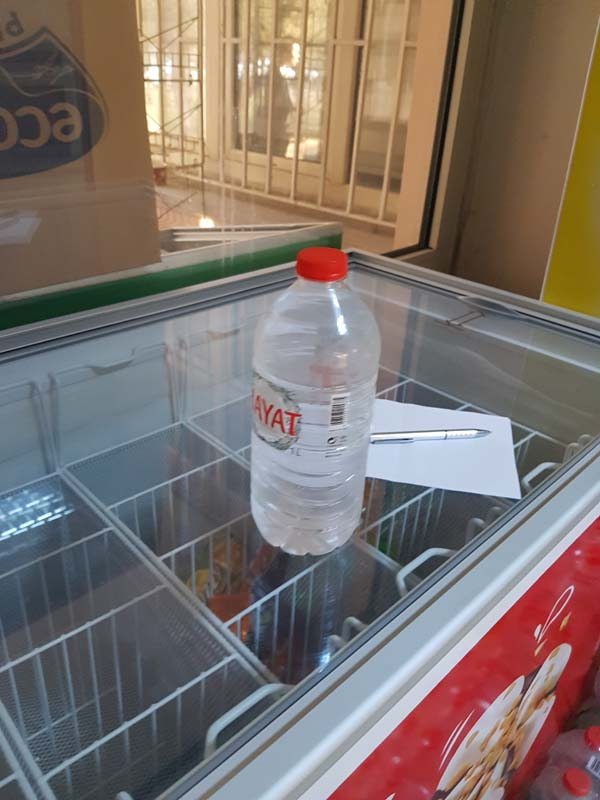saka500mlsu: (247, 244, 385, 565)
